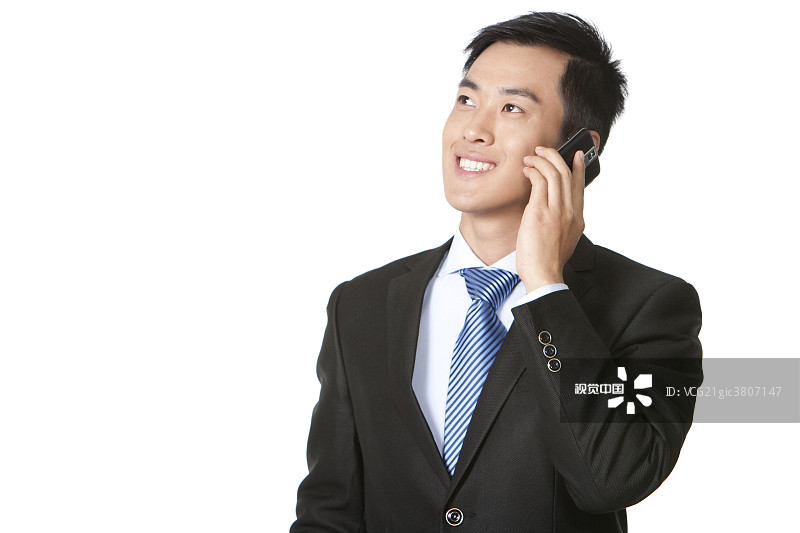calling: (510, 120, 615, 297)
